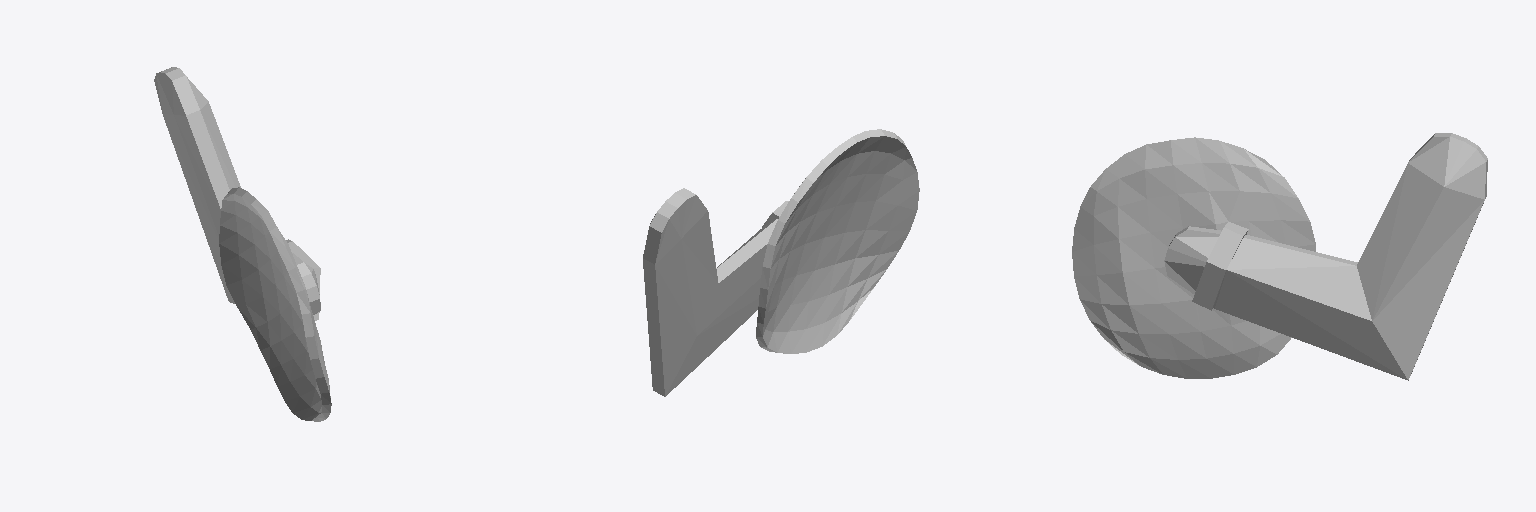
The model's file is Monkey_Izq.obj.
3 views of the same model, side by side, from view 1: azimuth 30°, elevation 25°; view 2: azimuth 150°, elevation 25°; view 3: azimuth 270°, elevation 25° (orthographic).
Parts seen in each view (by area): view 1: polySurface3; view 2: polySurface3; view 3: polySurface3.
Part boxes in pixels (bbox=[...]): polySurface3: bbox=[154, 67, 331, 421]; polySurface3: bbox=[643, 129, 919, 396]; polySurface3: bbox=[1072, 133, 1487, 380].
Bounding box in the file's own units: 3.45 × 7.57 × 11.55.